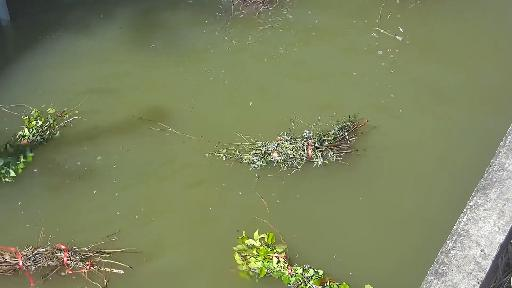twig: (228, 221, 401, 288), (192, 109, 365, 174), (0, 223, 151, 288), (0, 100, 69, 193)
